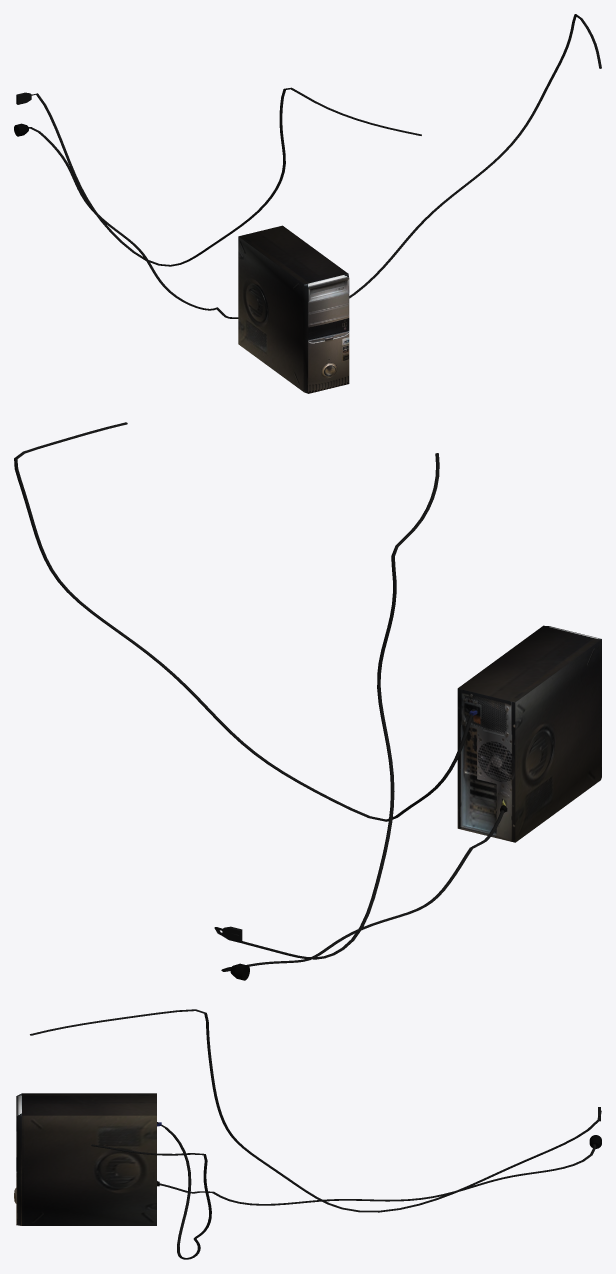
File: ScrivaniaLorenzoCaviePC.gltf
3 renders of one model, top to bottom at view 1: azimuth 30°, elevation 25°; view 2: azimuth 150°, elevation 25°; view 3: azimuth 270°, elevation 25°, orthographic. The views are drawn at different scales.
Visible parts, largest first — view 1: Lorenzo Pc Case, Lorenzo Telefono Cavo, Lorenzo Monitor Cavo, Lorenzo Pc Case Cavo; view 2: Lorenzo Pc Case, Lorenzo Monitor Cavo, Lorenzo Telefono Cavo, Lorenzo Pc Case Cavo; view 3: Lorenzo Pc Case, Lorenzo Telefono Cavo, Lorenzo Monitor Cavo, Lorenzo Pc Case Cavo.
Part boxes in pixels (box(x1,y1,x2,y2)): Lorenzo Pc Case: box(238, 225, 349, 393); Lorenzo Telefono Cavo: box(31, 87, 421, 266); Lorenzo Monitor Cavo: box(349, 14, 601, 298); Lorenzo Pc Case Cavo: box(28, 127, 238, 318); Lorenzo Pc Case: box(457, 625, 601, 842); Lorenzo Monitor Cavo: box(14, 422, 475, 821); Lorenzo Telefono Cavo: box(214, 453, 439, 959); Lorenzo Pc Case Cavo: box(221, 810, 504, 971); Lorenzo Pc Case: box(14, 1093, 156, 1225); Lorenzo Telefono Cavo: box(30, 1009, 601, 1212); Lorenzo Monitor Cavo: box(91, 1122, 211, 1259); Lorenzo Pc Case Cavo: box(159, 1144, 596, 1205).
Size of the model in its own units: 1.29 by 0.7539 by 1.74.
Materials: 4 (2 with a texture image).
